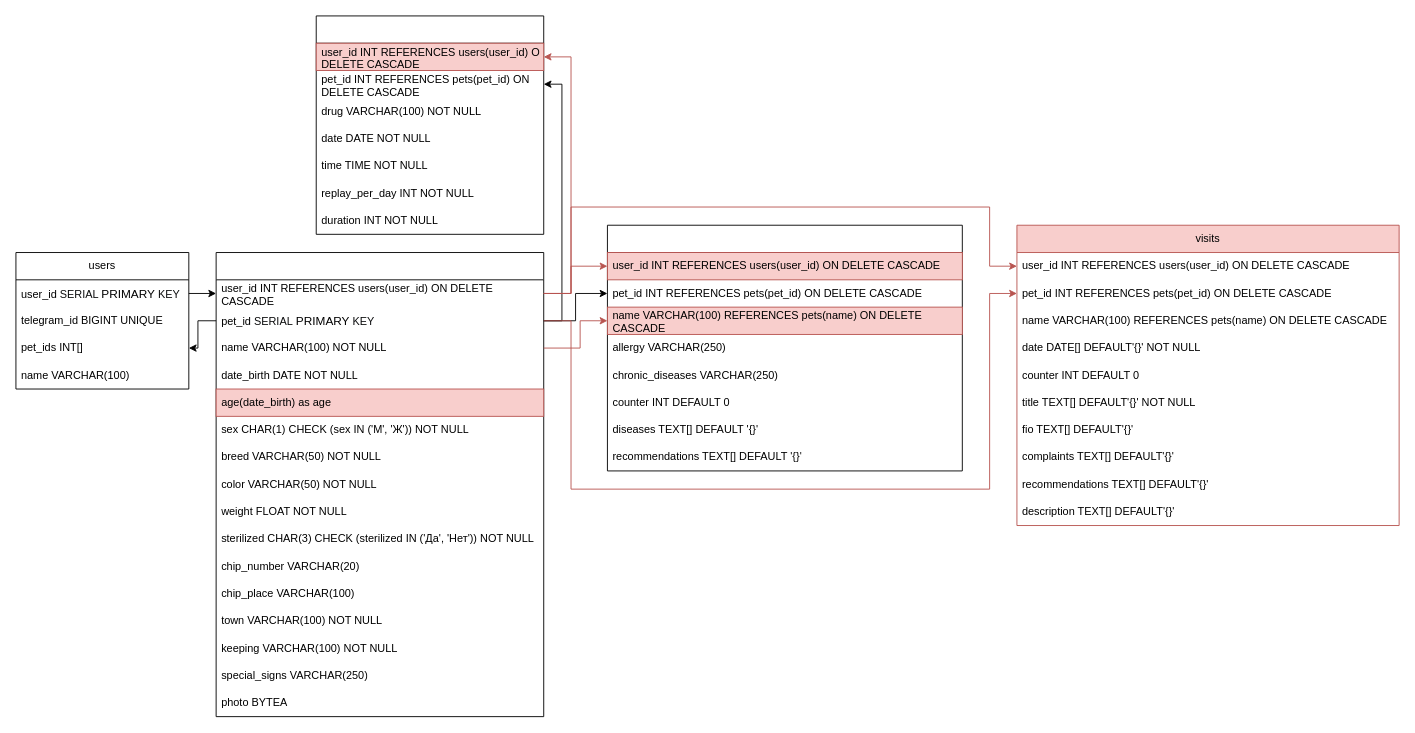
Image size: 1415x733. Some labels were removed from this diagram. Here are the shapes that lost their labels. From the top down, the box of each, then its label:
(315, 15, 544, 234): shedule
(607, 224, 962, 471): medical_card
(215, 252, 544, 717): pets
